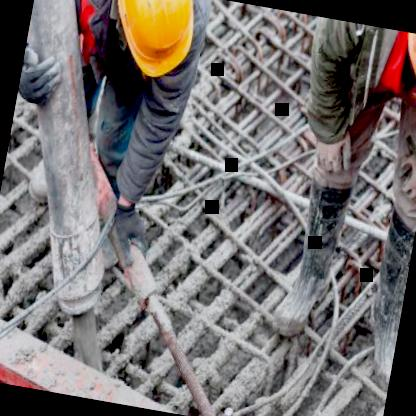helmet: (91, 0, 204, 97), (376, 29, 416, 140)
